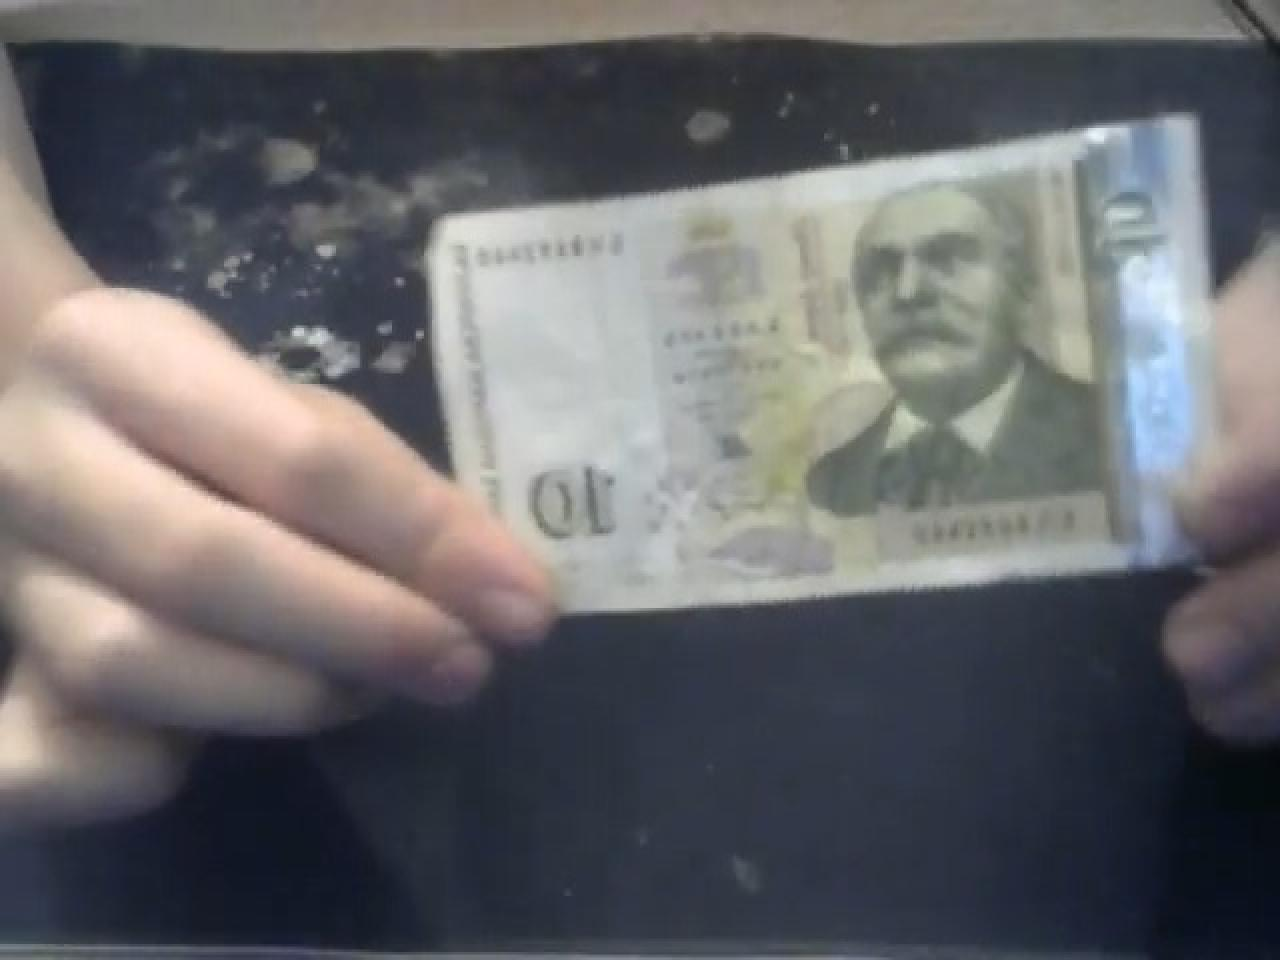10leva: (424, 117, 1218, 619), (808, 176, 1090, 514)
